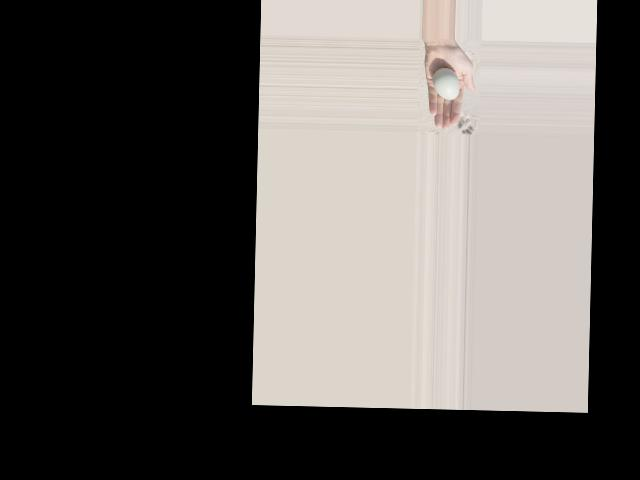egg: (431, 68, 459, 99)
